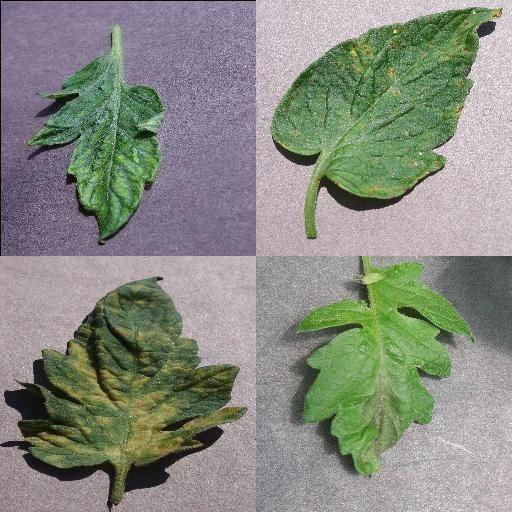Late Blight: (294, 259, 474, 481)
Leaf Mold: (16, 275, 248, 469)
Mosaic Virus: (27, 52, 166, 246)
Septoria: (273, 8, 502, 200)
